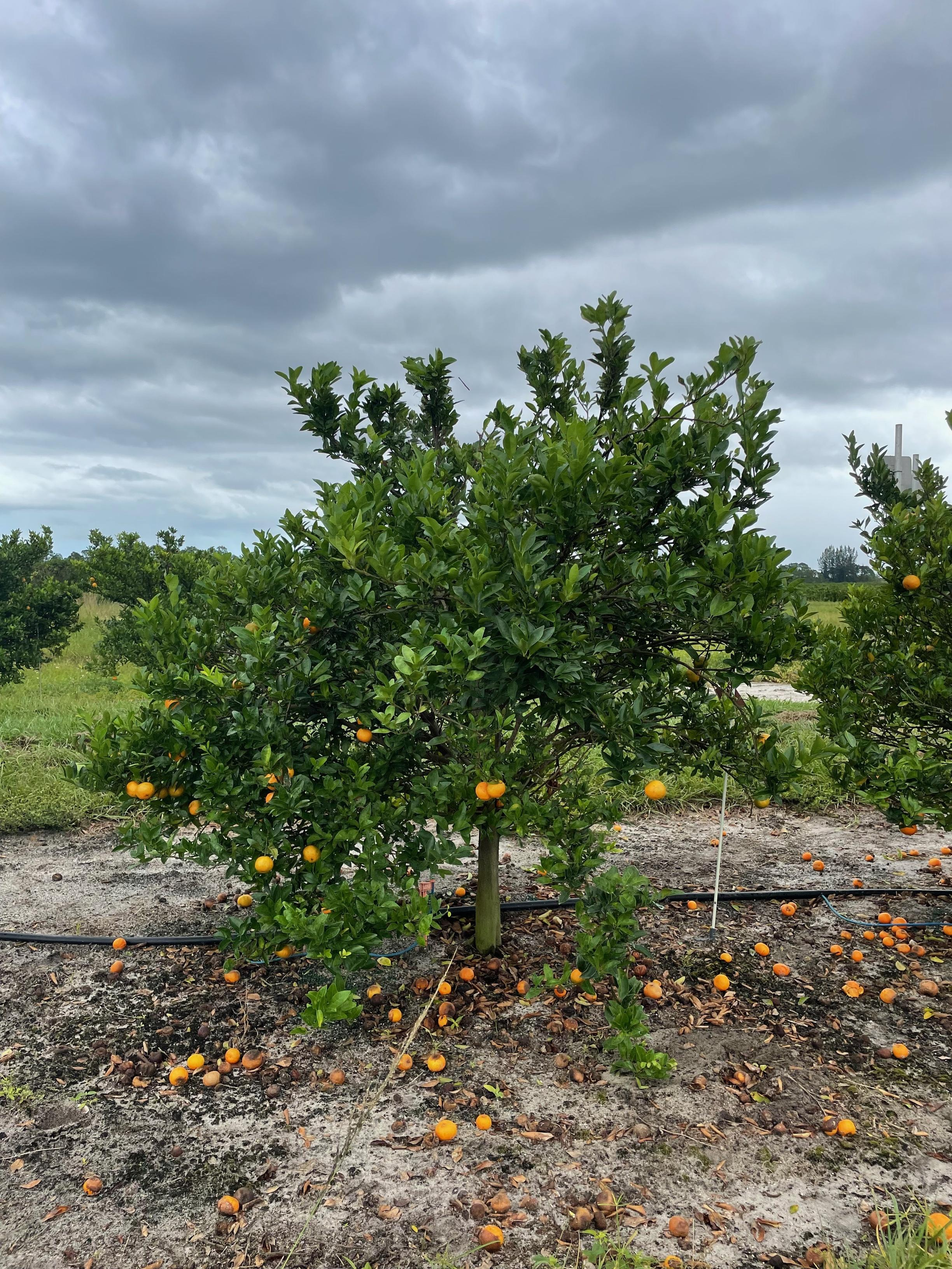fruit_on_ground: (642, 779, 668, 803), (299, 613, 325, 636), (166, 743, 190, 764), (252, 853, 276, 874), (271, 940, 294, 961), (163, 693, 185, 714), (134, 780, 156, 801), (900, 572, 922, 593), (473, 780, 494, 802), (486, 778, 508, 799), (754, 731, 775, 751), (354, 725, 375, 745), (301, 843, 322, 863), (165, 779, 187, 798), (569, 967, 588, 987), (124, 780, 143, 800), (186, 798, 205, 817), (898, 820, 919, 837), (684, 666, 703, 684), (753, 793, 772, 811), (152, 783, 170, 801), (691, 654, 710, 671), (230, 676, 246, 693), (336, 862, 351, 876), (90, 581, 99, 589)
fruit_on_tree: (476, 1223, 507, 1254), (924, 1210, 951, 1243), (801, 1244, 830, 1269), (666, 1214, 693, 1239), (865, 1208, 891, 1232), (434, 1117, 458, 1143), (240, 1047, 264, 1070), (569, 1206, 592, 1229), (216, 1193, 240, 1215), (642, 978, 665, 1000), (593, 1190, 616, 1211), (168, 1066, 191, 1087), (80, 1175, 104, 1195), (490, 1192, 512, 1213), (425, 1050, 447, 1071), (201, 1068, 223, 1088), (222, 1045, 242, 1066), (836, 1116, 857, 1136), (842, 979, 864, 998), (711, 971, 731, 991), (820, 1115, 838, 1137), (411, 975, 431, 994), (474, 1112, 494, 1131), (918, 979, 940, 996), (661, 1253, 684, 1269), (396, 1052, 415, 1071), (363, 981, 383, 999), (186, 1051, 206, 1069), (890, 1041, 910, 1059), (731, 1068, 751, 1085), (770, 961, 791, 977), (329, 1067, 347, 1085), (236, 891, 255, 908), (222, 969, 241, 986), (457, 964, 476, 981), (484, 955, 502, 972), (515, 977, 532, 995), (879, 986, 897, 1003), (420, 1014, 437, 1031), (436, 980, 453, 997), (386, 1006, 403, 1023), (631, 963, 649, 979), (569, 1066, 586, 1082), (753, 940, 770, 956), (109, 957, 125, 974), (215, 1061, 234, 1075), (891, 915, 908, 930), (438, 999, 454, 1014), (779, 902, 796, 916), (111, 937, 128, 951), (553, 984, 569, 998), (876, 910, 892, 924), (897, 941, 912, 955), (811, 858, 826, 872), (718, 950, 734, 963), (894, 927, 910, 940), (436, 1014, 450, 1028), (203, 895, 217, 909), (454, 883, 468, 897), (912, 943, 927, 956), (685, 898, 699, 911), (839, 928, 853, 941), (928, 856, 942, 869), (828, 942, 842, 955), (800, 849, 814, 862), (850, 949, 864, 962), (880, 936, 894, 948), (938, 844, 951, 856), (862, 928, 875, 940), (850, 876, 864, 887), (941, 923, 952, 936), (215, 892, 228, 903), (611, 822, 623, 833), (863, 851, 875, 862), (906, 847, 919, 857), (890, 925, 902, 934), (878, 929, 890, 938)
